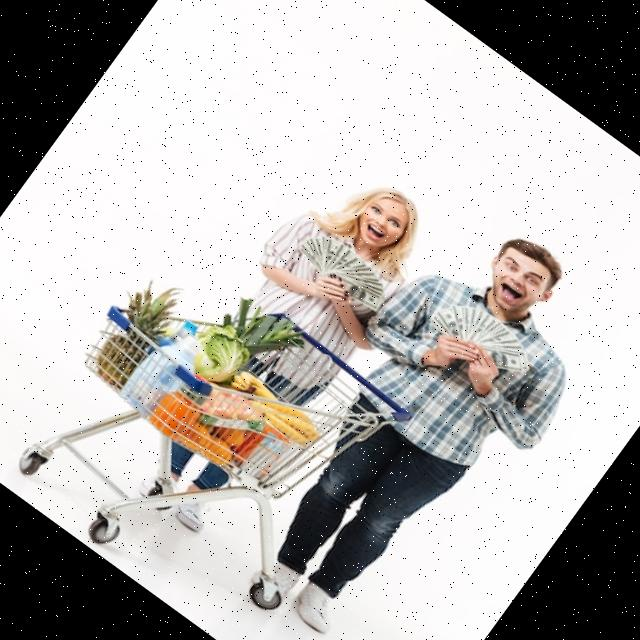Person: (201, 188, 633, 640), (100, 144, 458, 555)
